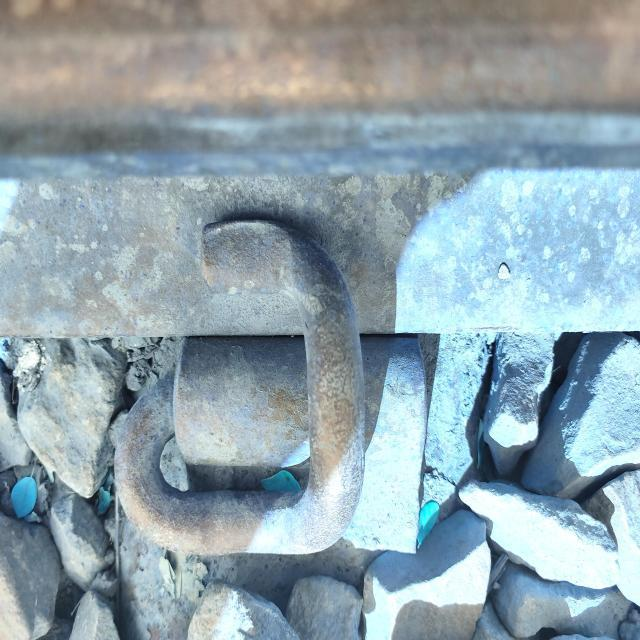Good Fasteners: (115, 221, 428, 555)
